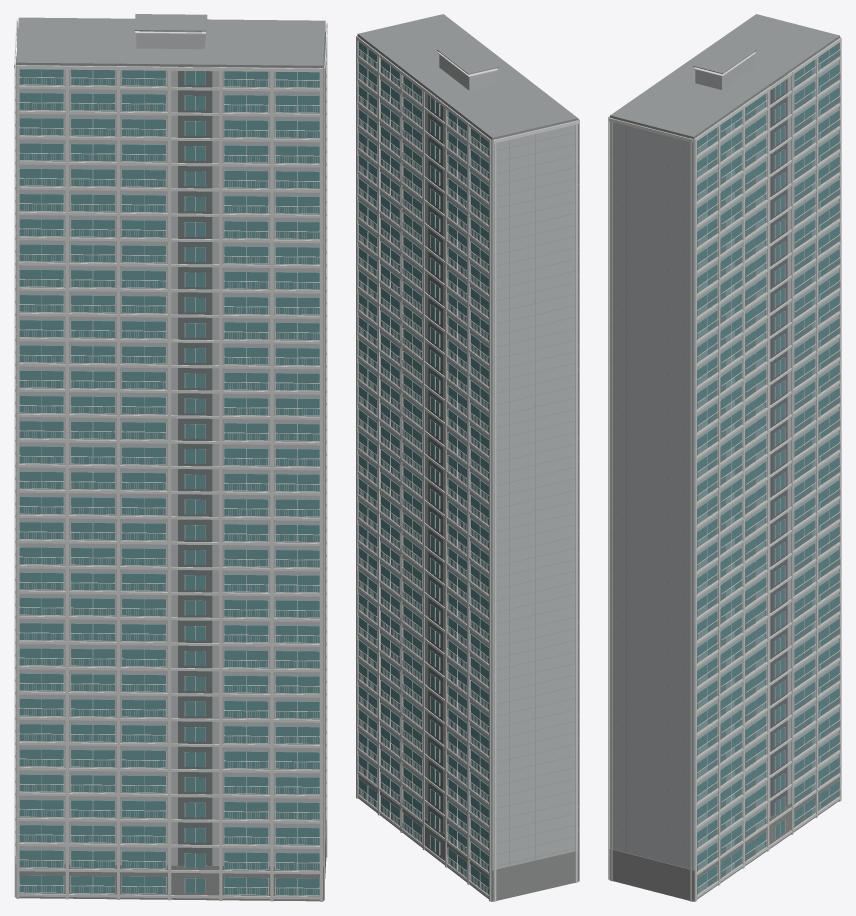
File: bespoke-jamsil-ricenz-260.glb
3 views of the same model, side by side, from view 1: azimuth 30°, elevation 25°; view 2: azimuth 150°, elevation 25°; view 3: azimuth 270°, elevation 25° (orthographic). The views are drawn at different scales.
Parts seen in each view (by area): view 1: Ricenz260_editable_Ricenz260_turquoise_balcony_glazing, Ricenz260_editable_Ricenz260_light_grey_solid_wall, Ricenz260_white_exact_chunk_2, Ricenz260_white_exact_chunk_1, Ricenz260_white_exact_chunk_0, Ricenz260_editable_Ricenz260_narrow_charcoal_service_strips, Ricenz260_editable_Ricenz260_modest_grey_flat_roof_caps, Ricenz260_editable_Ricenz260_muted_ground_wall, Ricenz260_white_exact_chunk_5; view 2: Ricenz260_editable_Ricenz260_light_grey_solid_wall, Ricenz260_editable_Ricenz260_turquoise_balcony_glazing, Ricenz260_white_exact_chunk_3, Ricenz260_white_exact_chunk_5, Ricenz260_white_exact_chunk_4, Ricenz260_editable_Ricenz260_modest_grey_flat_roof_caps, Ricenz260_white_exact_chunk_2, Ricenz260_editable_Ricenz260_narrow_charcoal_service_strips, Ricenz260_editable_Ricenz260_muted_ground_wall; view 3: Ricenz260_editable_Ricenz260_light_grey_solid_wall, Ricenz260_editable_Ricenz260_turquoise_balcony_glazing, Ricenz260_white_exact_chunk_4, Ricenz260_white_exact_chunk_3, Ricenz260_editable_Ricenz260_modest_grey_flat_roof_caps, Ricenz260_white_exact_chunk_5, Ricenz260_white_exact_chunk_2, Ricenz260_editable_Ricenz260_narrow_charcoal_service_strips, Ricenz260_editable_Ricenz260_muted_ground_wall.
Part boxes in pixels (x1=…): Ricenz260_editable_Ricenz260_turquoise_balcony_glazing: x1=19, y1=69, x2=319, y2=895; Ricenz260_editable_Ricenz260_light_grey_solid_wall: x1=16, y1=28, x2=325, y2=866; Ricenz260_white_exact_chunk_2: x1=16, y1=22, x2=327, y2=901; Ricenz260_white_exact_chunk_1: x1=120, y1=70, x2=270, y2=898; Ricenz260_white_exact_chunk_0: x1=19, y1=69, x2=167, y2=897; Ricenz260_editable_Ricenz260_narrow_charcoal_service_strips: x1=178, y1=66, x2=212, y2=865; Ricenz260_editable_Ricenz260_modest_grey_flat_roof_caps: x1=15, y1=14, x2=326, y2=862; Ricenz260_editable_Ricenz260_muted_ground_wall: x1=15, y1=822, x2=326, y2=901; Ricenz260_white_exact_chunk_5: x1=14, y1=19, x2=206, y2=897; Ricenz260_editable_Ricenz260_light_grey_solid_wall: x1=357, y1=36, x2=578, y2=869; Ricenz260_editable_Ricenz260_turquoise_balcony_glazing: x1=358, y1=41, x2=488, y2=893; Ricenz260_white_exact_chunk_3: x1=379, y1=58, x2=444, y2=863; Ricenz260_white_exact_chunk_5: x1=356, y1=36, x2=578, y2=901; Ricenz260_white_exact_chunk_4: x1=424, y1=97, x2=488, y2=898; Ricenz260_editable_Ricenz260_modest_grey_flat_roof_caps: x1=357, y1=14, x2=578, y2=866; Ricenz260_white_exact_chunk_2: x1=357, y1=35, x2=579, y2=881; Ricenz260_editable_Ricenz260_narrow_charcoal_service_strips: x1=428, y1=90, x2=443, y2=832; Ricenz260_editable_Ricenz260_muted_ground_wall: x1=358, y1=770, x2=578, y2=901; Ricenz260_editable_Ricenz260_light_grey_solid_wall: x1=610, y1=37, x2=839, y2=869; Ricenz260_editable_Ricenz260_turquoise_balcony_glazing: x1=697, y1=43, x2=838, y2=893; Ricenz260_white_exact_chunk_4: x1=769, y1=42, x2=840, y2=831; Ricenz260_white_exact_chunk_3: x1=720, y1=93, x2=791, y2=871; Ricenz260_editable_Ricenz260_modest_grey_flat_roof_caps: x1=610, y1=14, x2=839, y2=866; Ricenz260_white_exact_chunk_5: x1=693, y1=36, x2=841, y2=901; Ricenz260_white_exact_chunk_2: x1=608, y1=116, x2=743, y2=901; Ricenz260_editable_Ricenz260_narrow_charcoal_service_strips: x1=770, y1=74, x2=787, y2=816; Ricenz260_editable_Ricenz260_muted_ground_wall: x1=609, y1=773, x2=839, y2=901.
Size of the model in its own units: 33.94 by 99.51 by 26.89.
